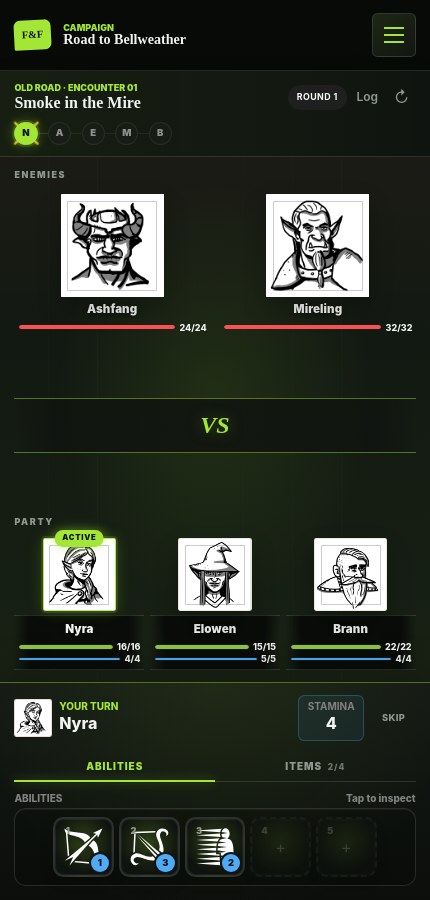
Test: <CombatPrototype /> › keeps secondary unit stats behind inspection
What coordinates should you click on to do the following:
click the button with aria-label "Inspect Ashfang"
I would click on:
 (112, 263)
Its box is 14,191 -> 209,335.
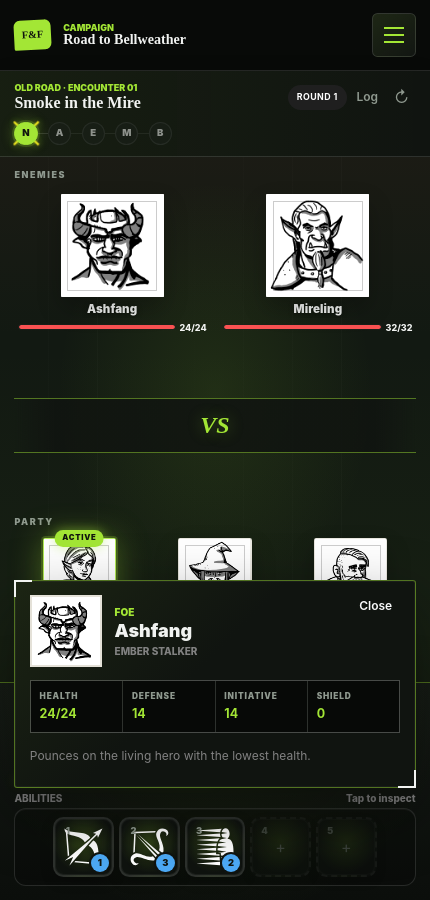
Check: the dialog with test id "unit-inspector" shows "Ember Stalker", box 14,580 -> 415,788
Check: the dialog with test id "unit-inspector" shows "Defense", box 14,580 -> 415,788
Check: the dialog with test id "unit-inspector" shows "Pounces on the living hero", box 14,580 -> 415,788
What coordinates should you click on to do the following:
click the button with aria-label "Close unit details"
I would click on:
 (376, 606)
Its box is 351,595 -> 400,617.
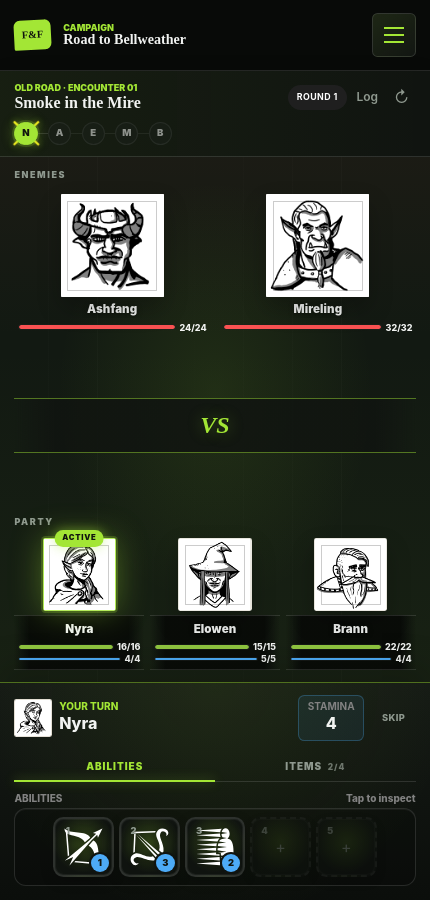
Check: the dialog with test id "unit-inspector" is gone
